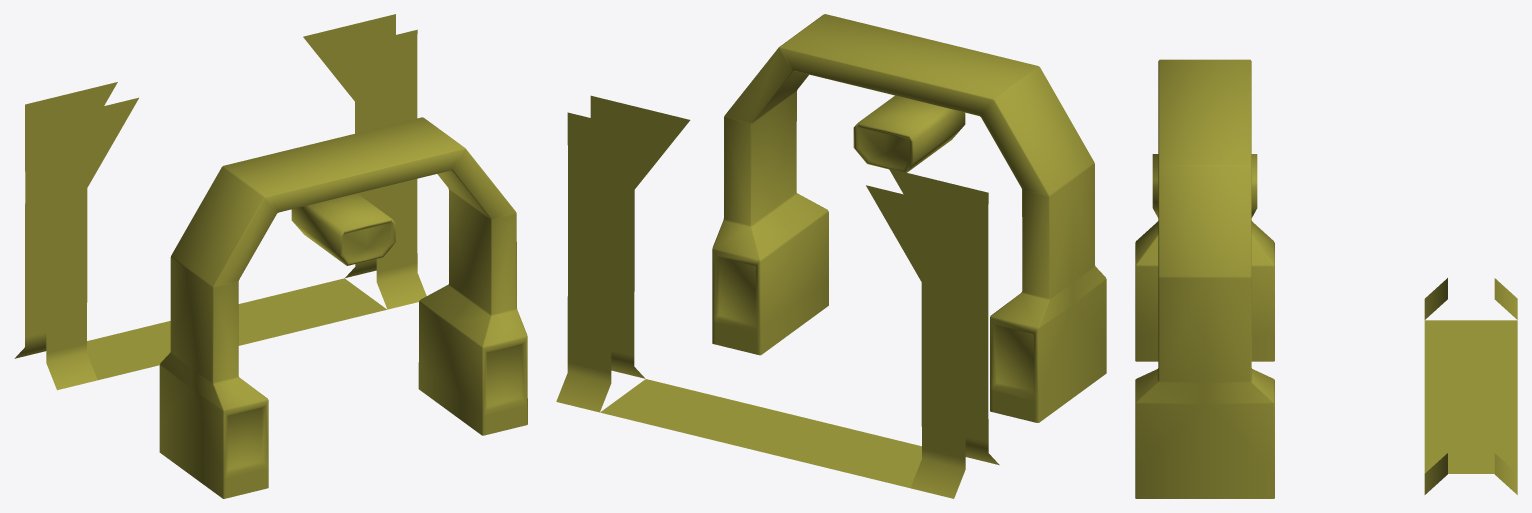
The model's file is StandardDoor.FBX.
3 renders of one model, left to right at view 1: azimuth 30°, elevation 25°; view 2: azimuth 150°, elevation 25°; view 3: azimuth 270°, elevation 25°, orthographic. The views are drawn at different scales.
Visible parts, largest first — view 1: SM_DoorWay_E; view 2: SM_DoorWay_E; view 3: SM_DoorWay_E.
Boxes of the visible parts, bbox=[...] form: SM_DoorWay_E: bbox=[14, 14, 527, 498]; SM_DoorWay_E: bbox=[556, 14, 1106, 498]; SM_DoorWay_E: bbox=[1135, 59, 1517, 498].
Bounding box in the file's own units: 157 × 129 × 114.
